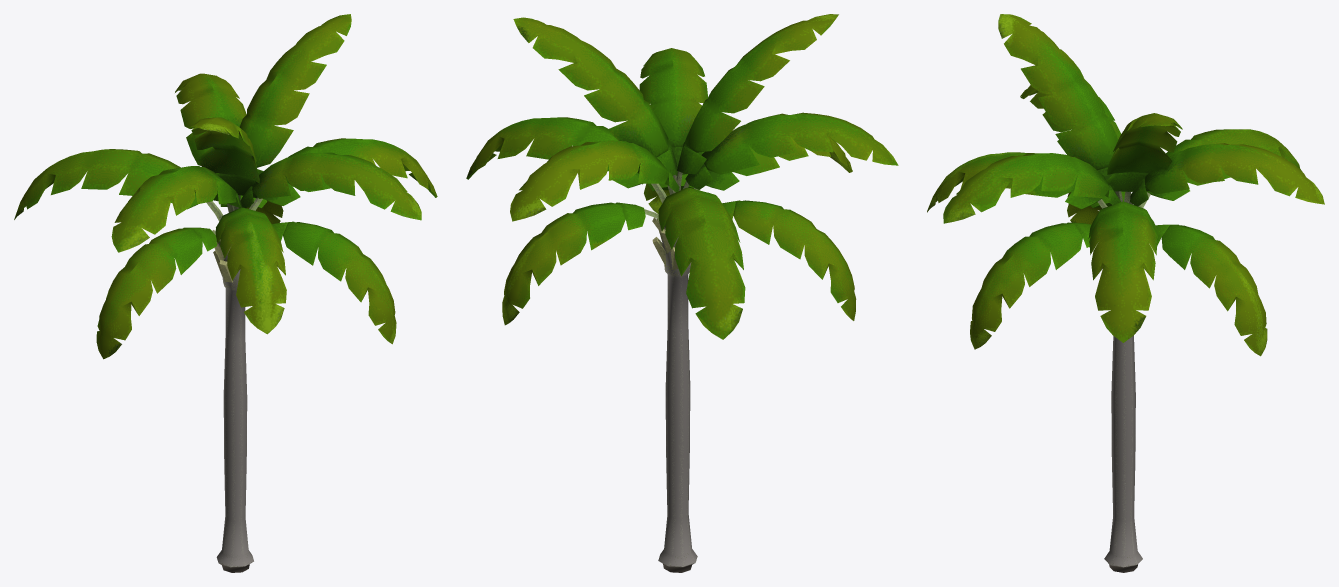
The model's file is tree-queen-palm-GB.fbx.
3 views of the same model, side by side, from view 1: azimuth 30°, elevation 25°; view 2: azimuth 150°, elevation 25°; view 3: azimuth 270°, elevation 25° (orthographic). The views are drawn at different scales.
Visible parts, largest first — view 1: QueenPalmTree_Mesh; view 2: QueenPalmTree_Mesh; view 3: QueenPalmTree_Mesh.
Part boxes in pixels (x1=…): QueenPalmTree_Mesh: x1=14, y1=14, x2=437, y2=572; QueenPalmTree_Mesh: x1=466, y1=14, x2=898, y2=572; QueenPalmTree_Mesh: x1=927, y1=14, x2=1324, y2=572.
Bounding box in the file's own units: 1070 × 1417 × 1006.
Materials: 1 (1 with a texture image).
